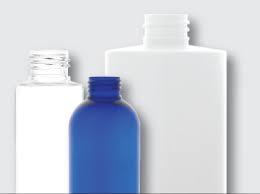Container for household chemicals: (104, 6, 238, 194), (12, 34, 86, 194), (57, 53, 137, 194)
